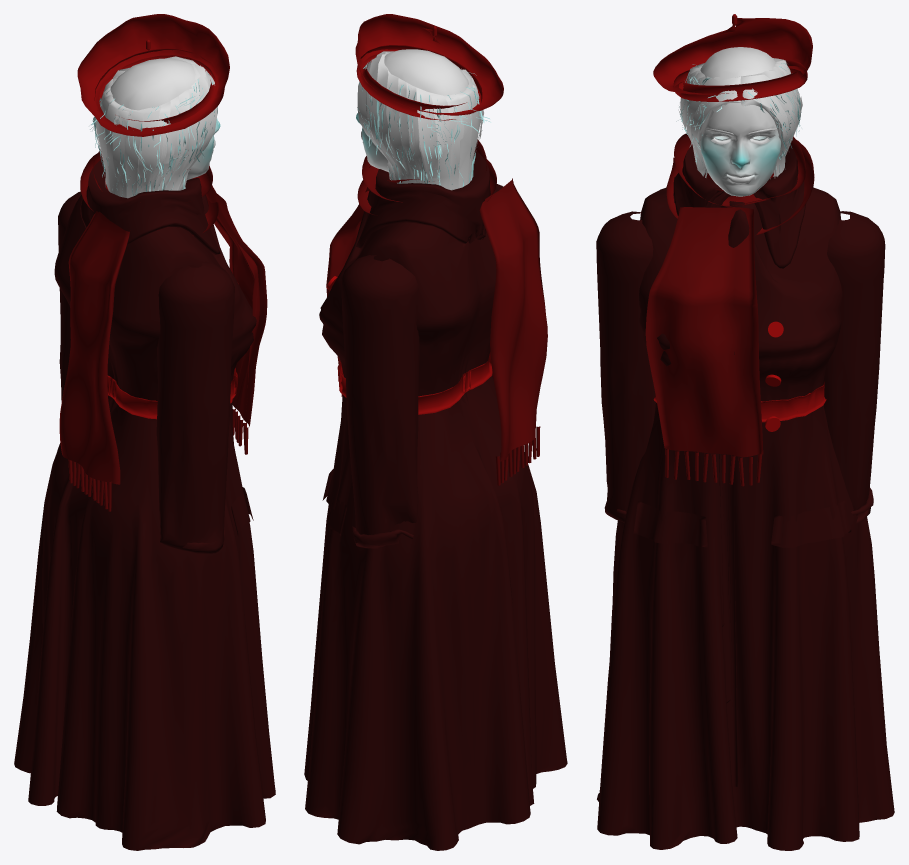
The model's file is madre_m.glb.
3 views of the same model, side by side, from view 1: azimuth 30°, elevation 25°; view 2: azimuth 150°, elevation 25°; view 3: azimuth 270°, elevation 25° (orthographic). The views are drawn at different scales.
Parts seen in each view (by area): view 1: ropa, pelo, piel; view 2: ropa, pelo, piel; view 3: ropa, piel, pelo.
Boxes of the visible parts, left/top/right/bottom form: ropa: left=14, top=14, right=275, bottom=850; pelo: left=90, top=56, right=218, bottom=198; piel: left=110, top=58, right=220, bottom=180; ropa: left=304, top=14, right=567, bottom=850; pelo: left=357, top=51, right=490, bottom=190; piel: left=356, top=49, right=468, bottom=171; ropa: left=596, top=14, right=894, bottom=850; piel: left=700, top=47, right=788, bottom=196; pelo: left=676, top=58, right=802, bottom=178.
Bounding box in the file's own units: 0.401 × 1.39 × 0.4716.
